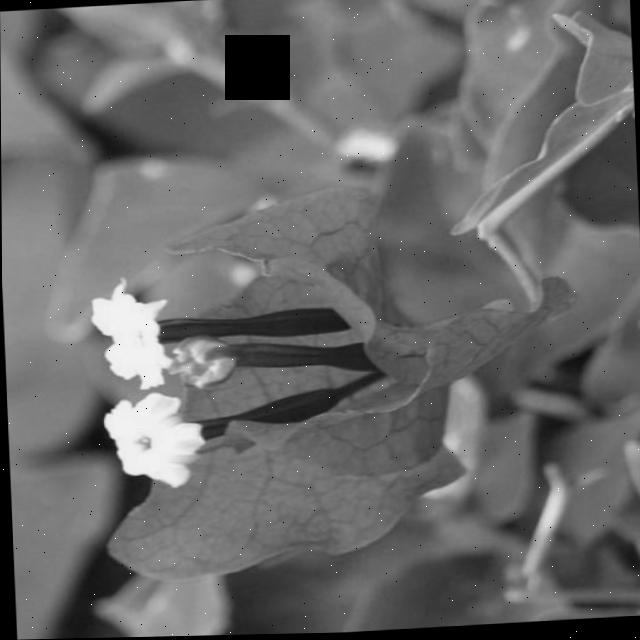bougainvillea: (0, 0, 617, 640)
